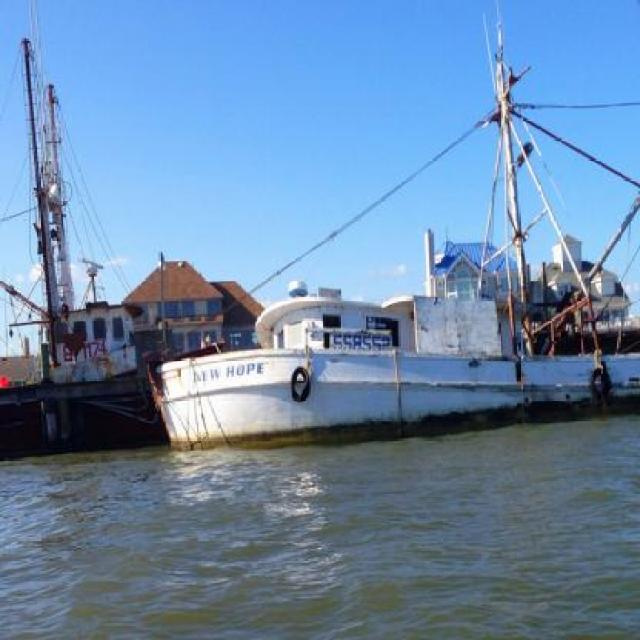ship: (146, 0, 640, 446), (0, 3, 158, 450)
